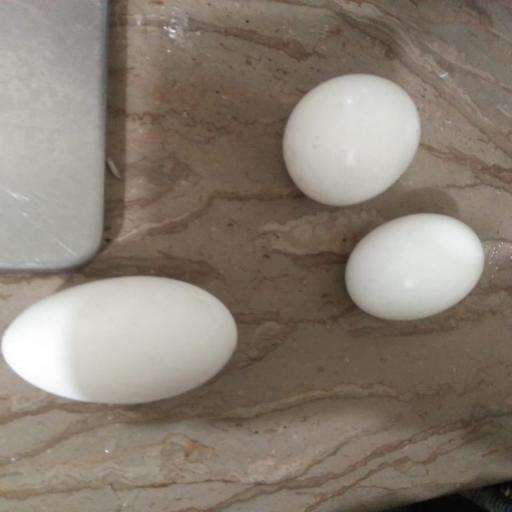telur: (0, 272, 242, 405), (282, 72, 423, 206), (344, 213, 488, 322)
